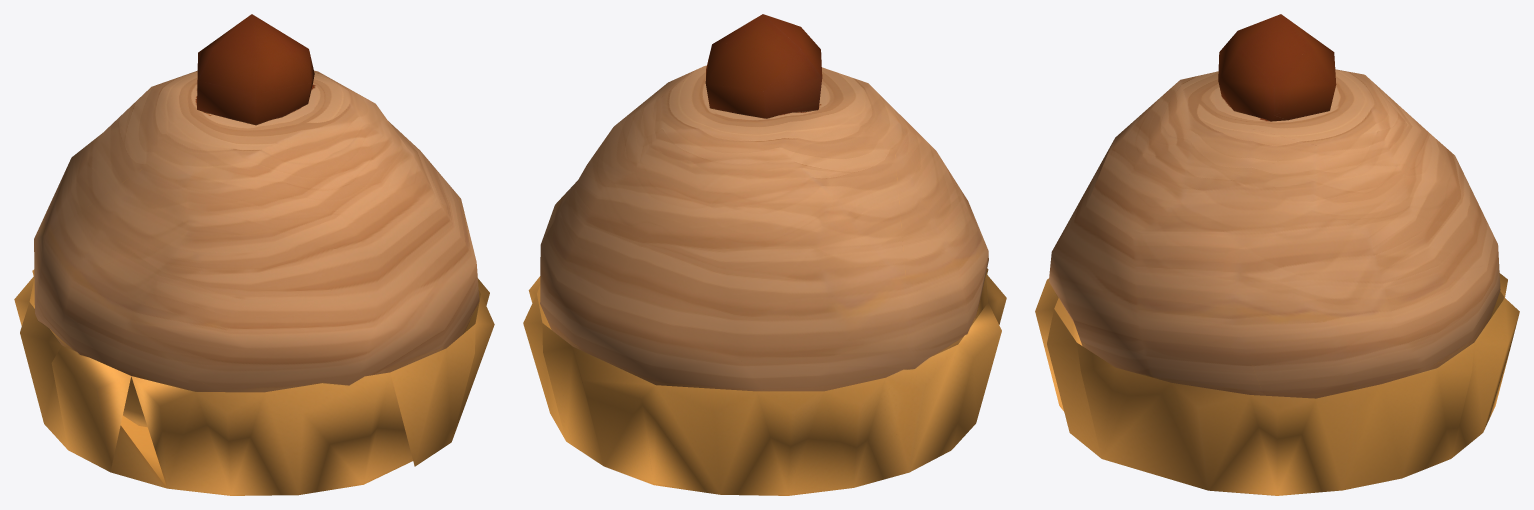
The model's file is source.fbx.
The picture shows the model from 3 angles, left to right: view 1: azimuth 30°, elevation 25°; view 2: azimuth 150°, elevation 25°; view 3: azimuth 270°, elevation 25°; orthographic projection.
Visible parts, largest first — view 1: Mesh_0; view 2: Mesh_0; view 3: Mesh_0.
Part boxes in pixels (x1,y1,x2,y2): Mesh_0: (14, 14, 494, 495); Mesh_0: (523, 14, 1006, 495); Mesh_0: (1035, 14, 1519, 495).
Size of the model in its own units: 19.89 by 18 by 20.22.
1 material, 1 textured.
